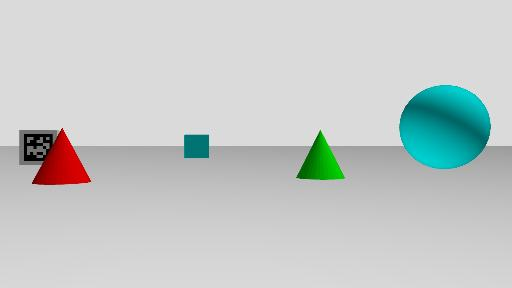green_cone: (295, 130, 345, 180)
red_cone: (30, 127, 93, 186)
